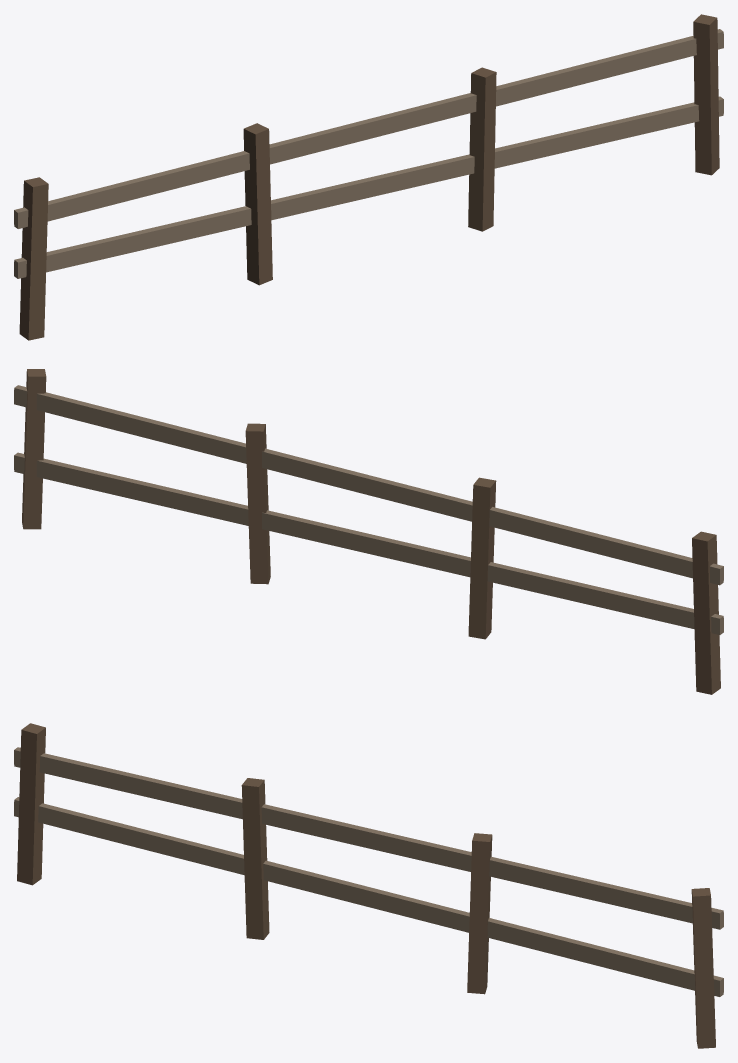
The model's file is SM_Fence.fbx.
The picture shows the model from 3 angles, top to bottom: view 1: azimuth 30°, elevation 25°; view 2: azimuth 150°, elevation 25°; view 3: azimuth 330°, elevation 25°; orthographic projection.
Visible parts, largest first — view 1: Fence; view 2: Fence; view 3: Fence.
Boxes of the visible parts, x1=… form: Fence: x1=14, y1=14, x2=723, y2=340; Fence: x1=14, y1=369, x2=723, y2=694; Fence: x1=14, y1=723, x2=723, y2=1048.
Bounding box in the file's own units: 630 × 21.66 × 130.
